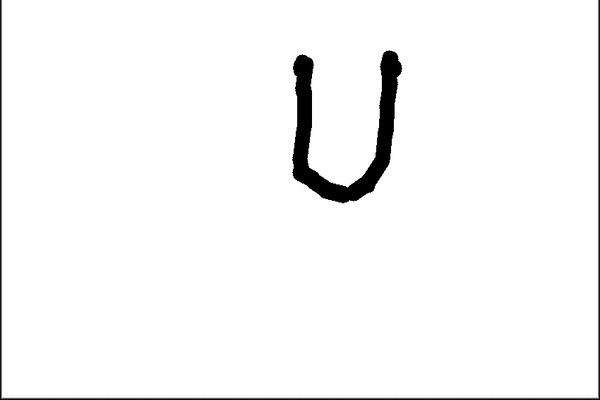U: (277, 38, 416, 209)
